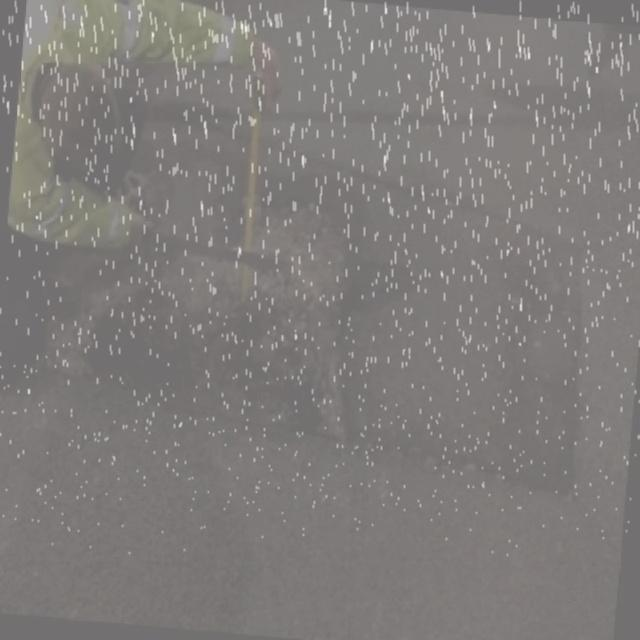Pothole: (170, 203, 382, 463)
